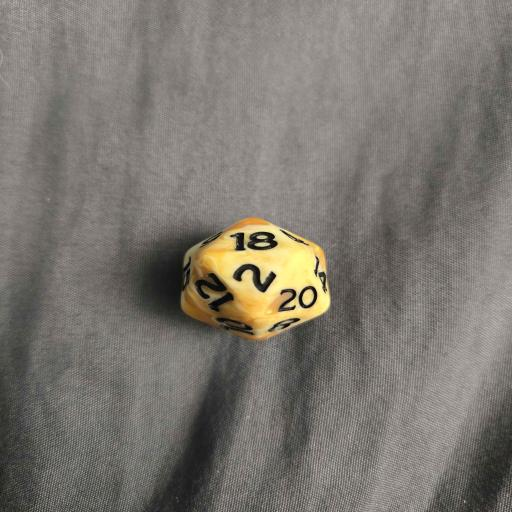twenty sided dice: (180, 218, 330, 341)
